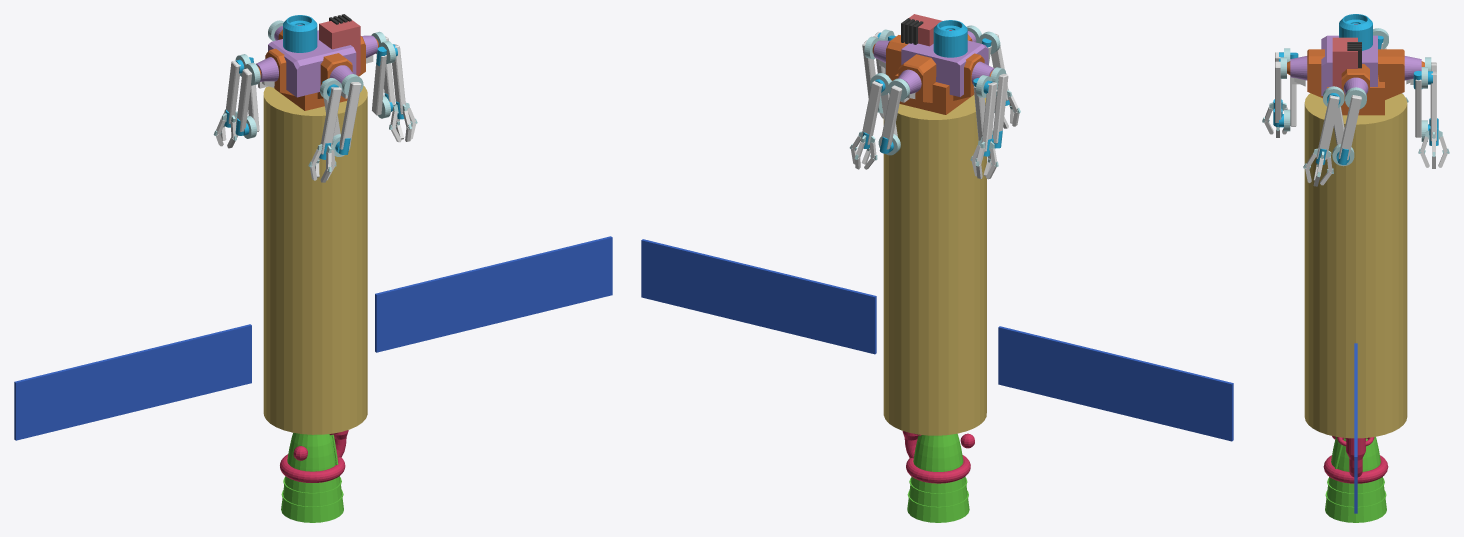
The model's file is scv.fbx.
3 renders of one model, left to right at view 1: azimuth 30°, elevation 25°; view 2: azimuth 150°, elevation 25°; view 3: azimuth 270°, elevation 25°, orthographic.
Parts seen in each view (by area): view 1: Cylinder.011, Cube.050, Cube.051, Empty_Mesh_13_Untitled.002, Cube.028, Empty_Mesh_13_Untitled.003, Cylinder.010, Cube.029, Cube.024, Cube.026; view 2: Cylinder.011, Cube.051, Cube.050, Empty_Mesh_13_Untitled.002, Cube.028, Empty_Mesh_13_Untitled.003, Cylinder.010, Cube.149, Cube.117, Cube.130, Cube.132; view 3: Cylinder.011, Empty_Mesh_13_Untitled.002, Empty_Mesh_13_Untitled.003, Cube.149, Cube.028, Cube.029, Cylinder.010, Cube.049, Cube.050, Cube.054, Cube.056, Cube.117 (+11 smaller).
Boxes of the visible parts, x1=… form: Cylinder.011: x1=263, y1=85, x2=367, y2=434; Cube.050: x1=375, y1=236, x2=612, y2=352; Cube.051: x1=14, y1=324, x2=251, y2=440; Empty_Mesh_13_Untitled.002: x1=281, y1=432, x2=343, y2=522; Cube.028: x1=268, y1=30, x2=356, y2=97; Empty_Mesh_13_Untitled.003: x1=280, y1=430, x2=348, y2=482; Cylinder.010: x1=283, y1=15, x2=317, y2=52; Cube.029: x1=319, y1=20, x2=360, y2=75; Cube.024: x1=339, y1=82, x2=361, y2=149; Cube.026: x1=321, y1=87, x2=341, y2=154; Cylinder.011: x1=883, y1=95, x2=986, y2=435; Cube.051: x1=998, y1=326, x2=1233, y2=441; Cube.050: x1=641, y1=239, x2=876, y2=354; Empty_Mesh_13_Untitled.002: x1=907, y1=433, x2=969, y2=522; Cube.028: x1=901, y1=40, x2=988, y2=96; Empty_Mesh_13_Untitled.003: x1=902, y1=431, x2=974, y2=483; Cylinder.010: x1=933, y1=20, x2=967, y2=57; Cube.149: x1=898, y1=54, x2=936, y2=102; Cube.117: x1=895, y1=73, x2=973, y2=114; Cube.130: x1=880, y1=85, x2=902, y2=149; Cube.132: x1=860, y1=81, x2=882, y2=144; Cylinder.011: x1=1304, y1=93, x2=1407, y2=438; Empty_Mesh_13_Untitled.002: x1=1325, y1=437, x2=1386, y2=522; Empty_Mesh_13_Untitled.003: x1=1323, y1=436, x2=1388, y2=483; Cube.149: x1=1378, y1=49, x2=1404, y2=99; Cube.028: x1=1321, y1=35, x2=1377, y2=95; Cube.029: x1=1332, y1=37, x2=1357, y2=88; Cylinder.010: x1=1339, y1=14, x2=1372, y2=50; Cube.049: x1=1307, y1=49, x2=1324, y2=98; Cube.050: x1=1354, y1=343, x2=1357, y2=513; Cube.054: x1=1338, y1=95, x2=1361, y2=160; Cube.056: x1=1316, y1=95, x2=1339, y2=160; Cube.117: x1=1327, y1=75, x2=1384, y2=115.
Bounding box in the file's own units: 5336 × 4206 × 1474.
